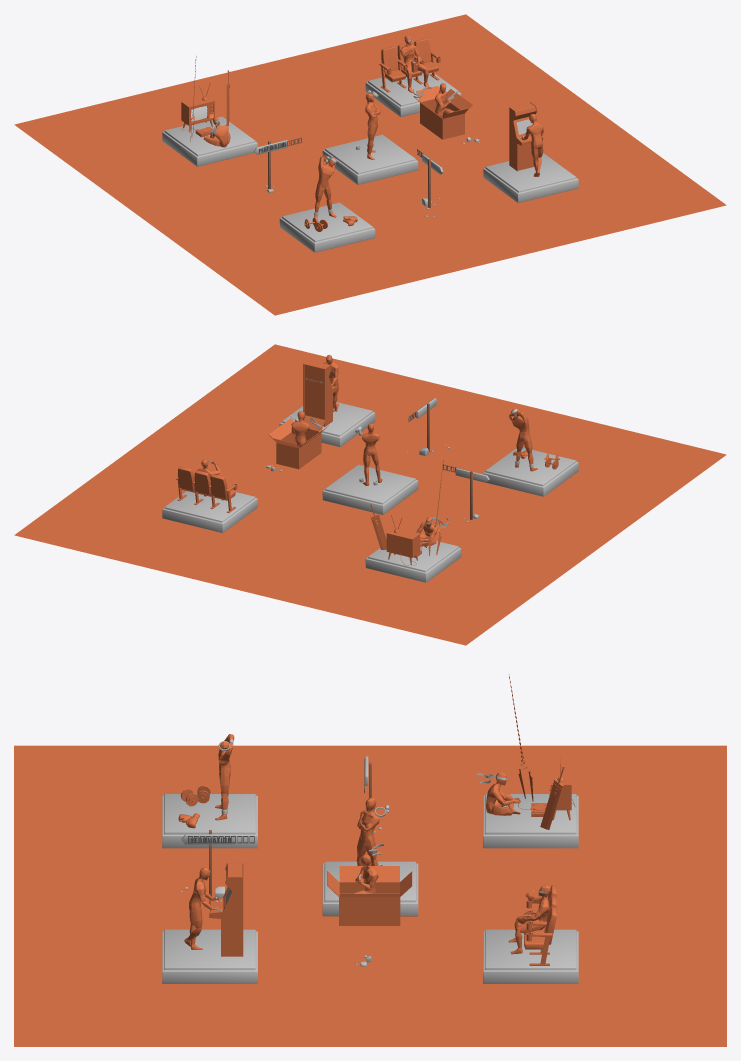
The picture shows the model from 3 angles, top to bottom: view 1: azimuth 30°, elevation 25°; view 2: azimuth 150°, elevation 25°; view 3: azimuth 270°, elevation 25°; orthographic projection. The views are drawn at different scales.
Parts seen in each view (by area): view 1: floor.007, shadeWhite.078, shadeWhite.079, shadeWhite.080, shadeWhite.077, shadeOrange.009, shadeWhite.007, shadeOrange_002, shadeOrange.011, shadeOrange_001, shadeOrange_014, shadeOrange_056 (+1 smaller); view 2: floor.007, shadeWhite.078, shadeWhite.079, shadeWhite.007, shadeWhite.077, shadeOrange.009, shadeOrange_002, shadeWhite.080, shadeOrange_056, shadeOrange.011, shadeOrange.007; view 3: floor.007, shadeWhite.080, shadeWhite.007, shadeWhite.079, shadeWhite.077, shadeOrange.009, shadeOrange_002, shadeWhite.078, shadeOrange_001, shadeOrange.007, shadeOrange_014, shadeOrange.001 (+2 smaller).
Boxes of the visible parts, x1,y1,x2,y2 form: floor.007: [14, 14, 726, 315]; shadeWhite.078: [322, 134, 418, 184]; shadeWhite.079: [279, 202, 375, 252]; shadeWhite.080: [483, 153, 578, 202]; shadeWhite.077: [162, 116, 257, 166]; shadeOrange.009: [413, 86, 472, 139]; shadeWhite.007: [365, 73, 461, 116]; shadeOrange_002: [509, 102, 543, 171]; shadeOrange.011: [314, 155, 336, 220]; shadeOrange_001: [521, 114, 543, 176]; shadeOrange_014: [400, 35, 429, 92]; shadeOrange_056: [181, 95, 214, 125]; floor.007: [14, 344, 726, 645]; shadeWhite.078: [322, 464, 418, 514]; shadeWhite.079: [483, 447, 578, 496]; shadeWhite.007: [162, 491, 257, 532]; shadeWhite.077: [365, 541, 461, 582]; shadeOrange.009: [269, 415, 328, 469]; shadeOrange_002: [303, 359, 337, 426]; shadeWhite.080: [279, 402, 375, 446]; shadeOrange_056: [386, 527, 420, 557]; shadeOrange.011: [509, 409, 537, 471]; shadeOrange.007: [362, 423, 382, 485]; floor.007: [14, 745, 726, 1046]; shadeWhite.080: [162, 929, 257, 983]; shadeWhite.007: [483, 929, 578, 983]; shadeWhite.079: [162, 794, 257, 848]; shadeWhite.077: [483, 794, 578, 848]; shadeOrange.009: [327, 866, 412, 925]; shadeOrange_002: [209, 862, 243, 956]; shadeWhite.078: [322, 861, 418, 916]; shadeOrange_001: [184, 867, 219, 949]; shadeOrange.007: [356, 798, 379, 865]; shadeOrange_014: [508, 885, 550, 954]; shadeOrange.001: [486, 772, 520, 815].
Bounding box in the file's own units: 40 × 8.65 × 40.
